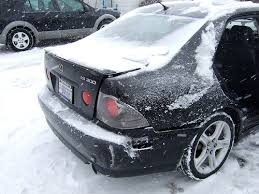Dent: (124, 136, 165, 157)
